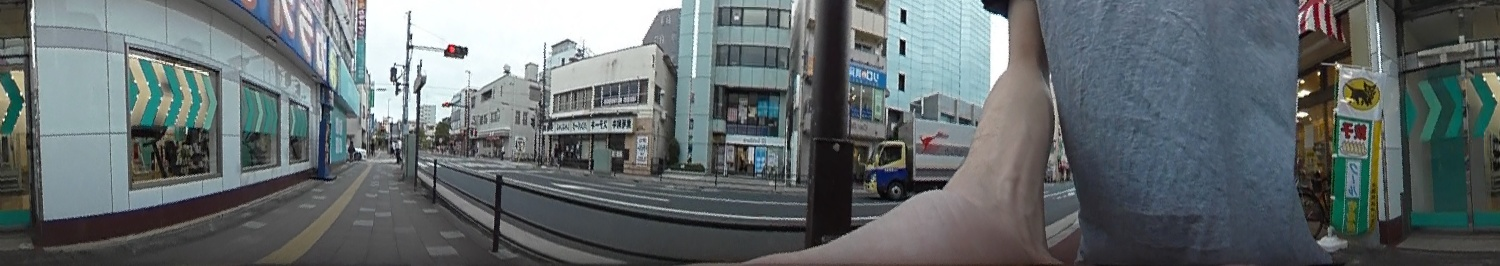difficult_person: (393, 136, 403, 165), (551, 141, 562, 167)
